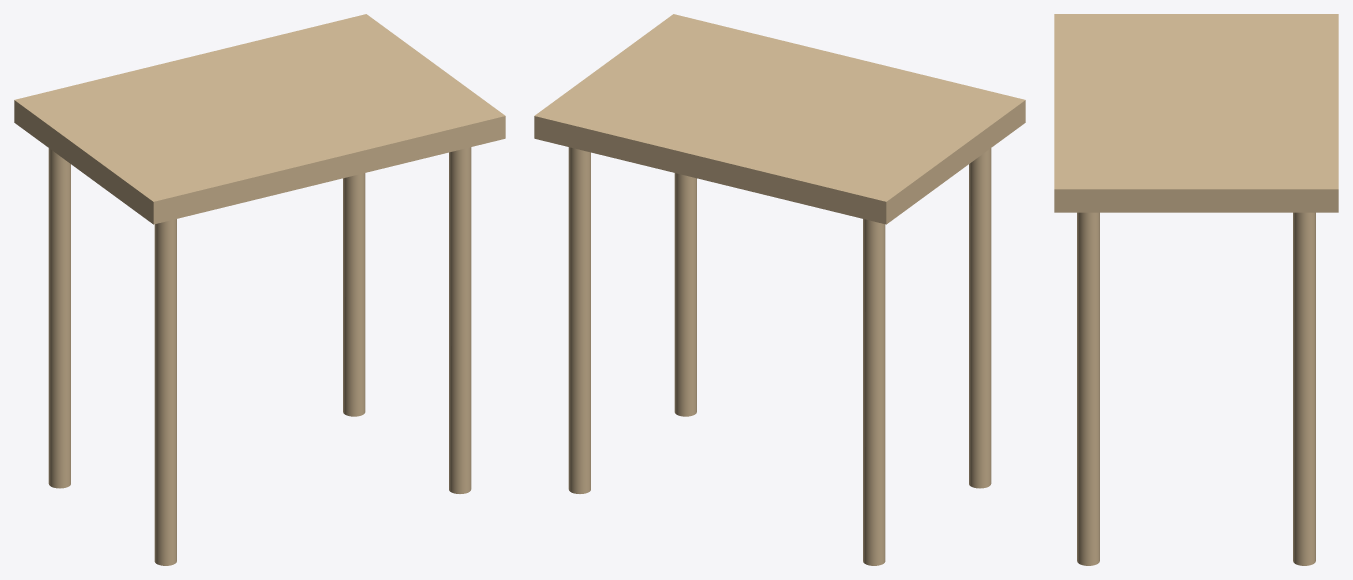
The model's file is ikea-micke-30468727-g2-proxy.glb.
The picture shows the model from 3 angles, left to right: view 1: azimuth 30°, elevation 25°; view 2: azimuth 150°, elevation 25°; view 3: azimuth 270°, elevation 25°; orthographic projection. The views are drawn at different scales.
Visible parts, largest first — view 1: proxy_body, leg (×4); view 2: proxy_body, leg (×4); view 3: proxy_body, leg (×2).
Boxes of the visible parts, x1,y1,x2,y2 form: proxy_body: (14,14,505,224); leg (×4): (48,147,471,565); proxy_body: (534,14,1025,224); leg (×4): (568,147,991,565); proxy_body: (1054,14,1338,212); leg (×2): (1077,212,1315,565).
Size of the model in its own units: 0.73 by 0.75 by 0.5.
